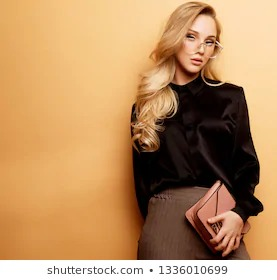S_blouse: (107, 67, 261, 217)
